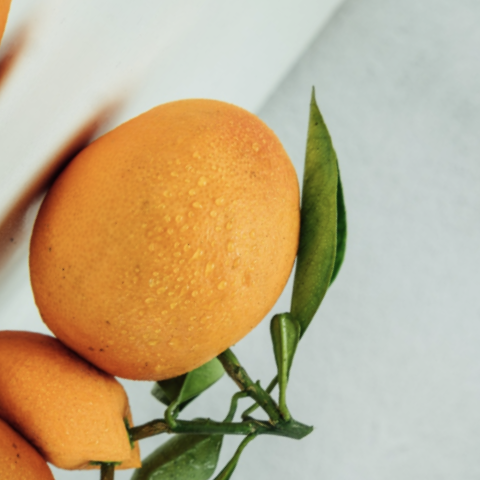orange: (0, 9, 399, 473)
